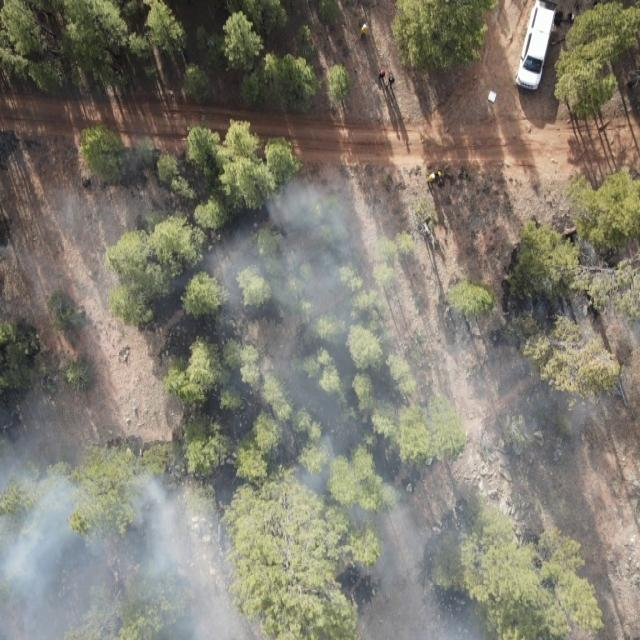smoke: (0, 162, 445, 640), (528, 239, 640, 640), (444, 282, 528, 640)
